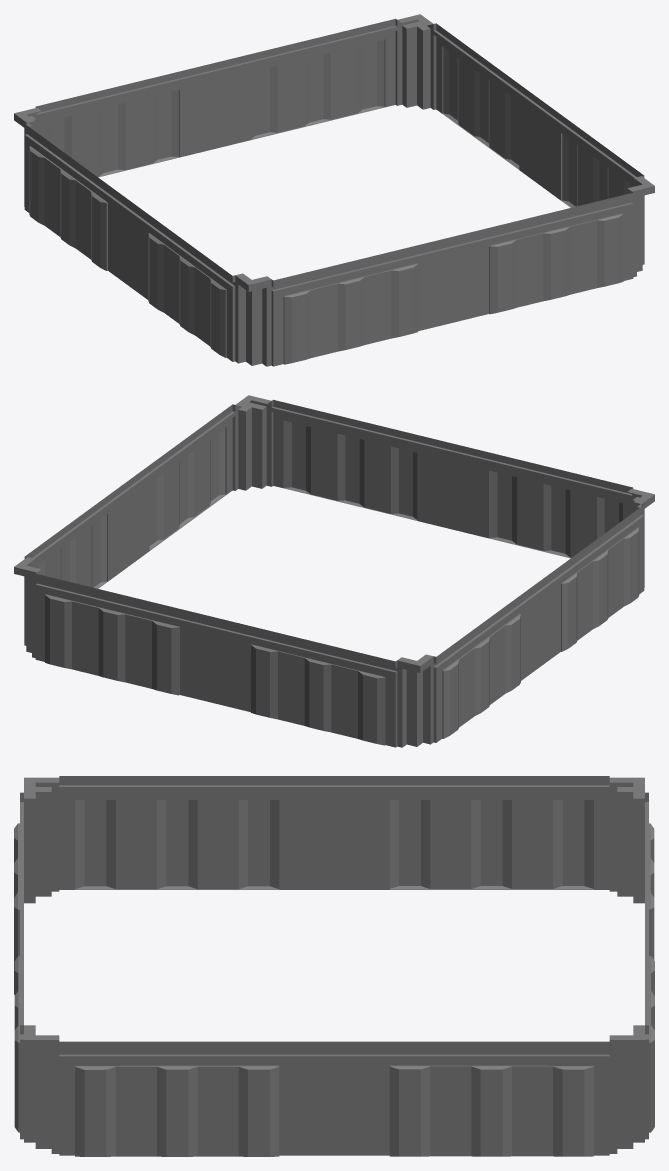
The model's file is tesla_modules_core_wall_outer_03.dae.
3 views of the same model, one above another, from view 1: azimuth 30°, elevation 25°; view 2: azimuth 150°, elevation 25°; view 3: azimuth 270°, elevation 25° (orthographic). The views are drawn at different scales.
Visible parts, largest first — view 1: polySurface40; view 2: polySurface40; view 3: polySurface40.
Boxes of the visible parts, <box> form: polySurface40: <box>14,14,654,366</box>; polySurface40: <box>14,395,654,747</box>; polySurface40: <box>14,776,654,1156</box>.
Bounding box in the file's own units: 40772 × 8000 × 40772.
